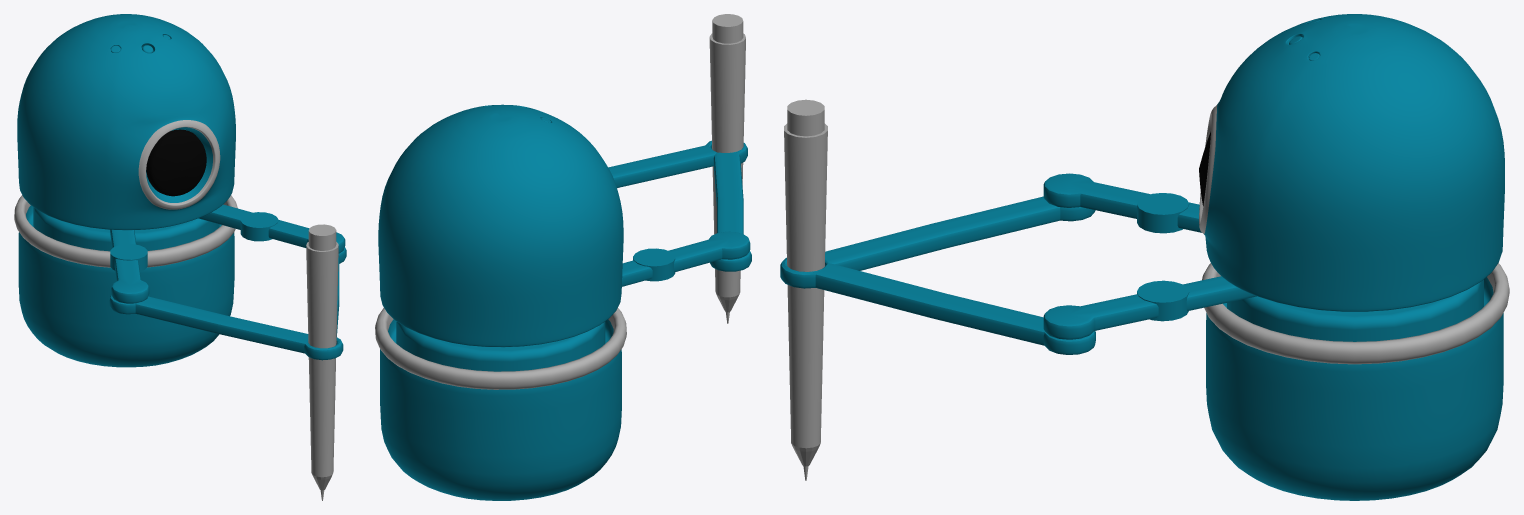
File: ROBO - 2.fbx
3 renders of one model, left to right at view 1: azimuth 30°, elevation 25°; view 2: azimuth 150°, elevation 25°; view 3: azimuth 270°, elevation 25°, orthographic. The views are drawn at different scales.
Visible parts, largest first — view 1: polySurface10, polySurface7, pCylinder7, polySurface3, polySurface8, polySurface6; view 2: polySurface10, polySurface7, polySurface3, pCylinder7, polySurface8, polySurface6; view 3: polySurface10, polySurface7, polySurface6, pCylinder7, polySurface3, polySurface8.
Part boxes in pixels (x1,y1,x2,y2): polySurface10: (17, 14, 235, 230); polySurface7: (14, 195, 237, 367); pCylinder7: (306, 224, 338, 500); polySurface3: (109, 229, 339, 360); polySurface8: (33, 207, 219, 251); polySurface6: (198, 204, 346, 359); polySurface10: (378, 104, 623, 347); polySurface7: (375, 308, 626, 500); polySurface3: (622, 142, 751, 286); pCylinder7: (709, 14, 745, 323); polySurface8: (396, 321, 605, 371); polySurface6: (608, 140, 743, 187); polySurface10: (1199, 14, 1504, 311); polySurface7: (1202, 263, 1509, 500); polySurface6: (780, 259, 1256, 354); pCylinder7: (784, 99, 827, 480); polySurface3: (780, 173, 1201, 280); polySurface8: (1227, 279, 1483, 341).
Bounding box in the file's own units: 5.1 × 6.92 × 10.07.
